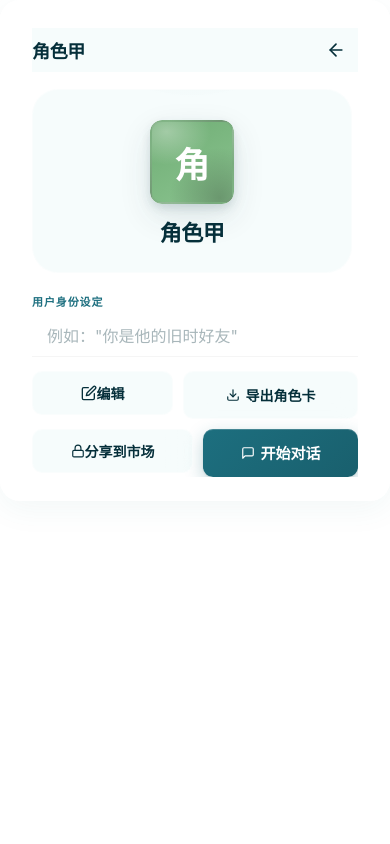
105：发布失败的文案要落到弹窗里 › 200 但没有 card_id：同样显示文案，弹窗仍在，没变成「已发布」
Step 1. Click the button with id "card-share-btn" → (112, 450), box [32,428,193,472]
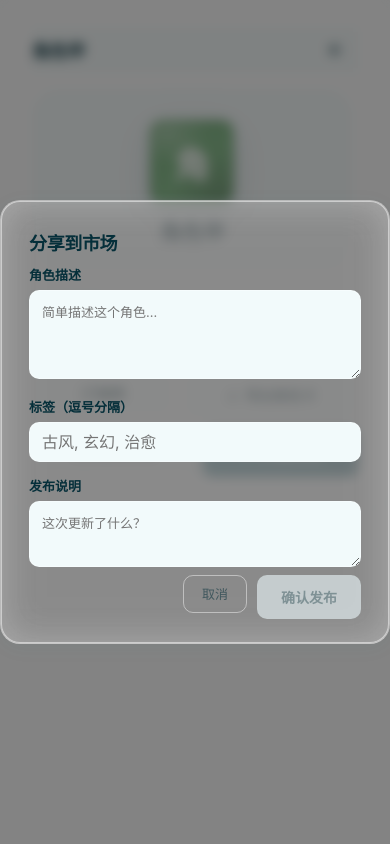
Step 2. Type "首版说明" into the text box with placeholder "这次更新了什么？" → (195, 534), box [29,500,361,567]
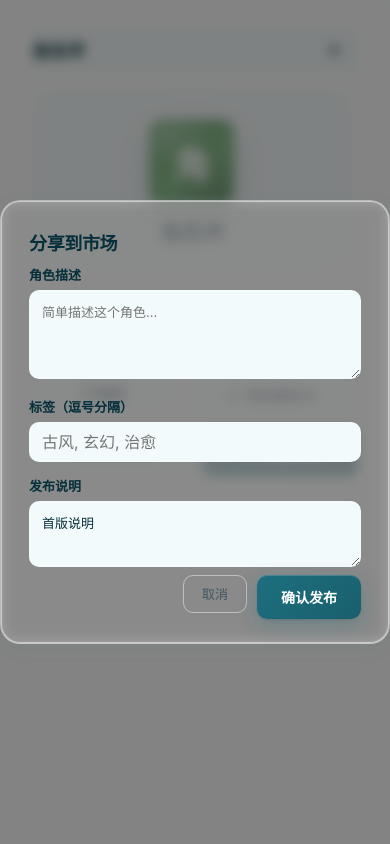
Step 3. Click the button "确认发布" → (309, 597), box [257,575,361,619]
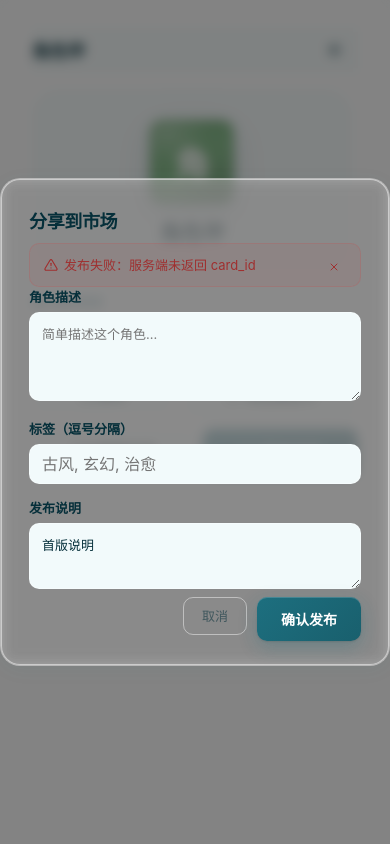
Now the element showing "发布失败：服务端未返回 card_id 角色描述 标签（逗号分隔） 发布说明" is shown, box [1,239,389,593]
Now the element with class "error-box" is shown, box [29,243,361,287]
Now the element with class "error-box" shows "card_id", box [64,257,256,273]
